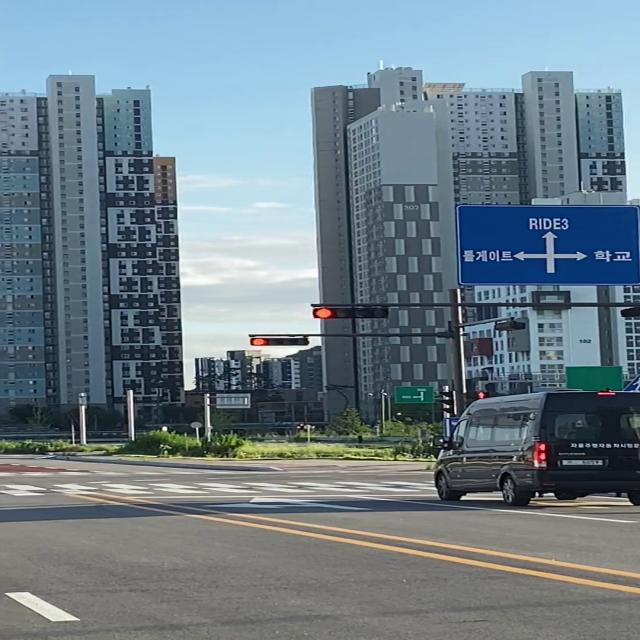yellow_light: (313, 307, 388, 318), (249, 337, 309, 346)
